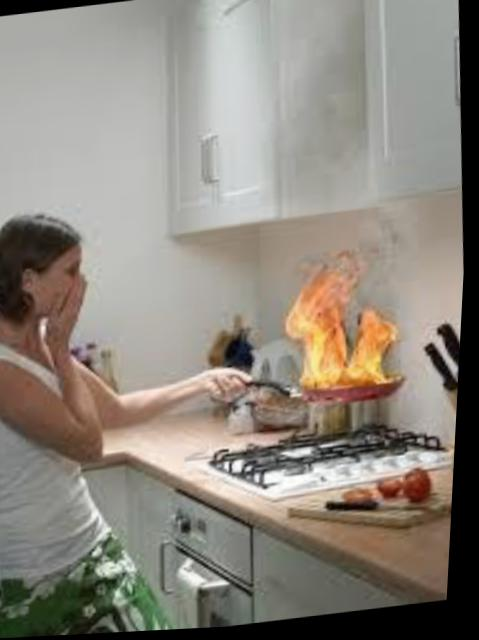fire: (281, 254, 423, 412)
